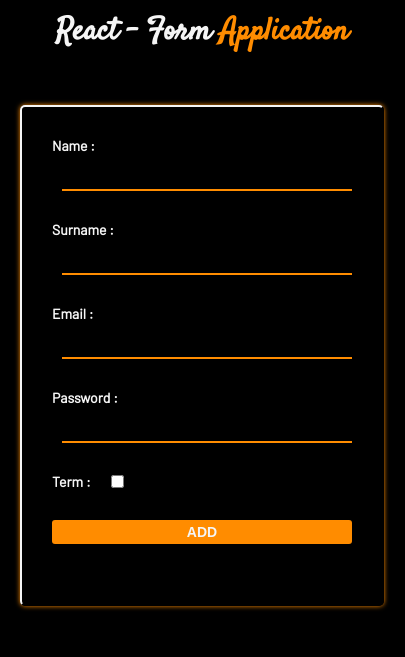
it: Form_Validation Testing › surNameInput - Testing
Type "A" into the field with id "surname".
click(207, 264); type("A")  # box x1=62 y1=253 x2=352 y2=275
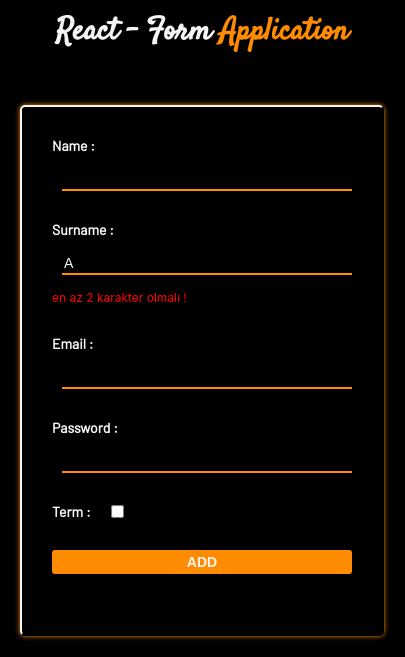
Result: the text "en az 2 karakter olmalı !" is shown at x1=52 y1=290 x2=187 y2=305
